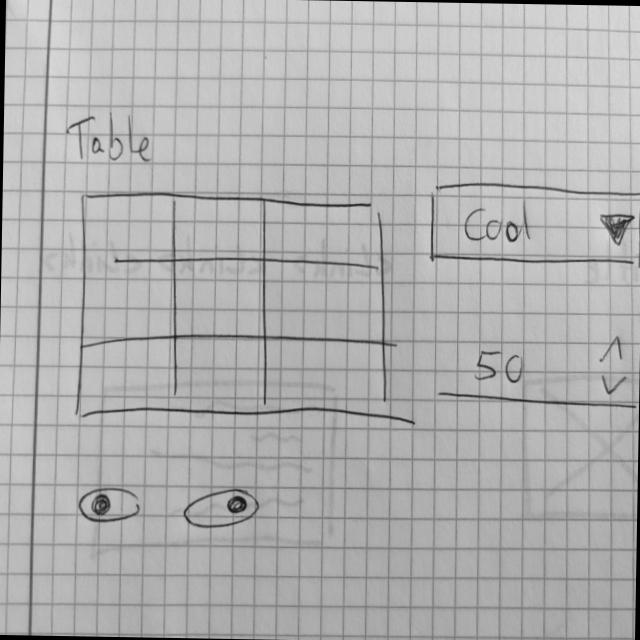label: (62, 109, 158, 171)
number-input: (438, 328, 640, 415)
select: (426, 179, 640, 271)
table: (76, 189, 398, 428)
toggle: (183, 486, 263, 534), (78, 484, 145, 524)
